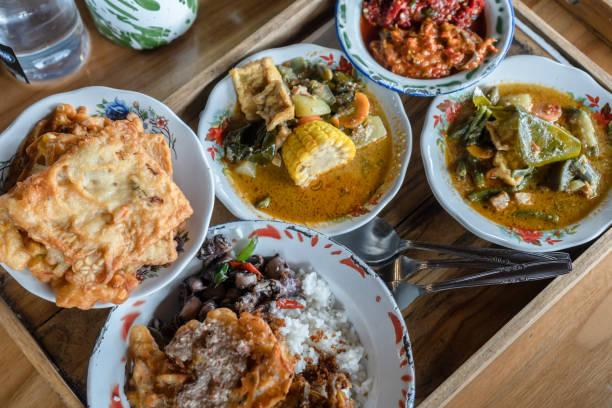Braised Crucian Carp: (98, 220, 564, 402), (0, 85, 213, 307), (197, 43, 405, 236), (420, 56, 610, 251), (338, 0, 508, 97)
